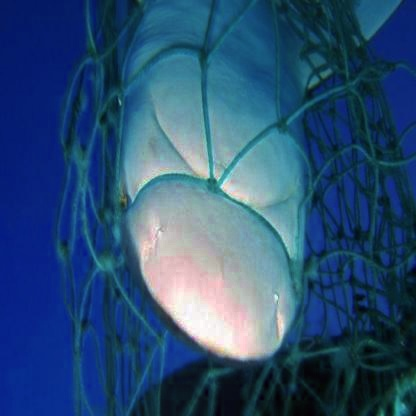net: (310, 69, 416, 416)
